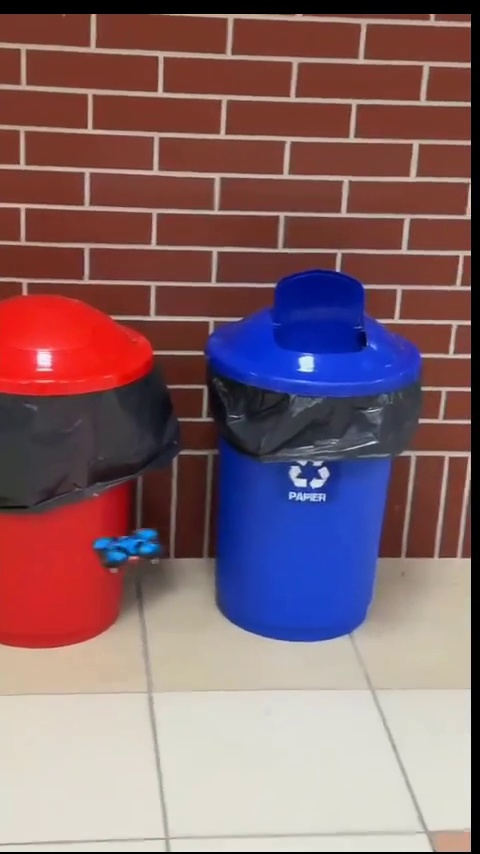drone: (95, 525, 168, 576)
